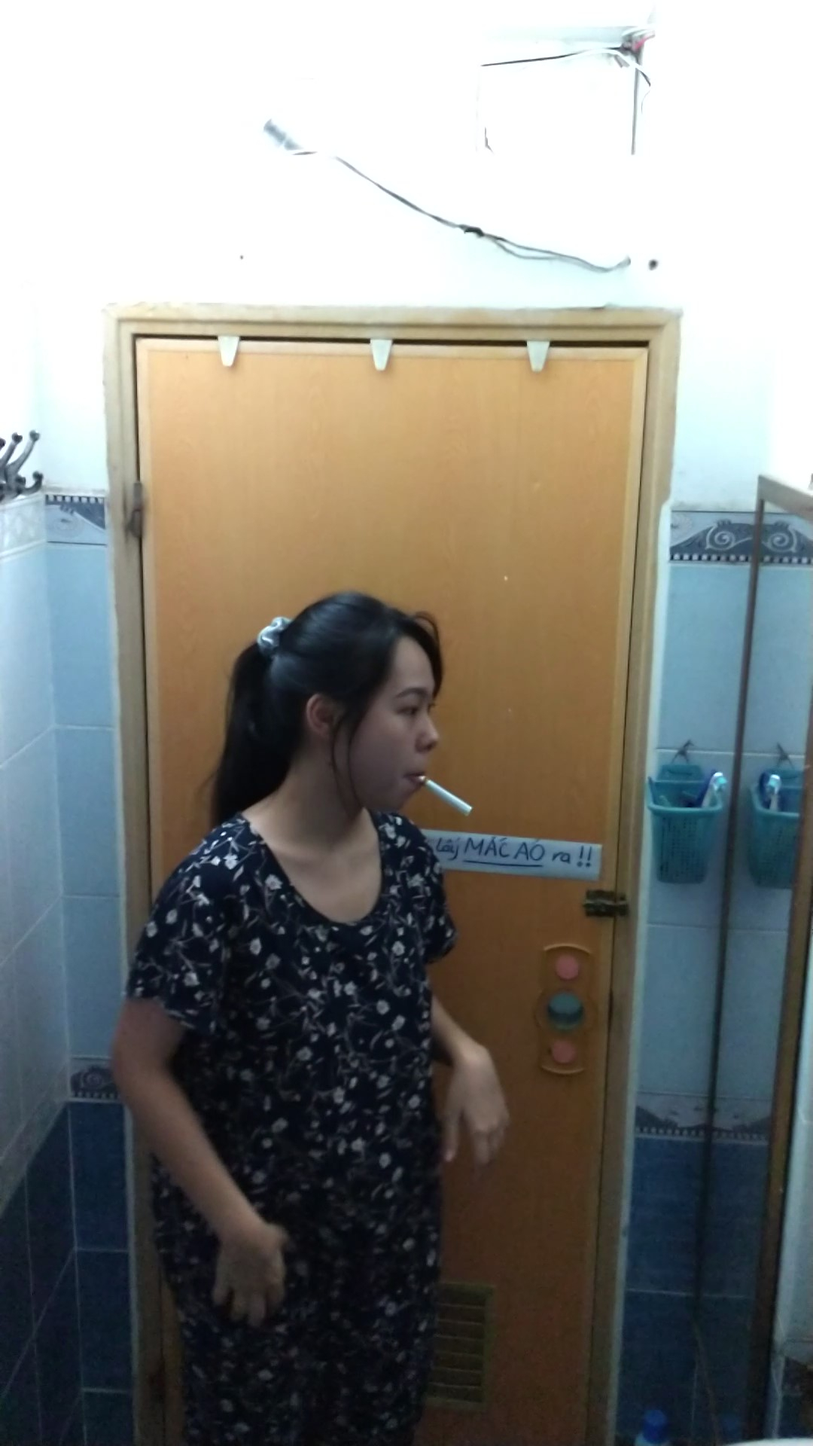cigarette: (411, 770, 476, 824)
person: (106, 590, 507, 1446)
